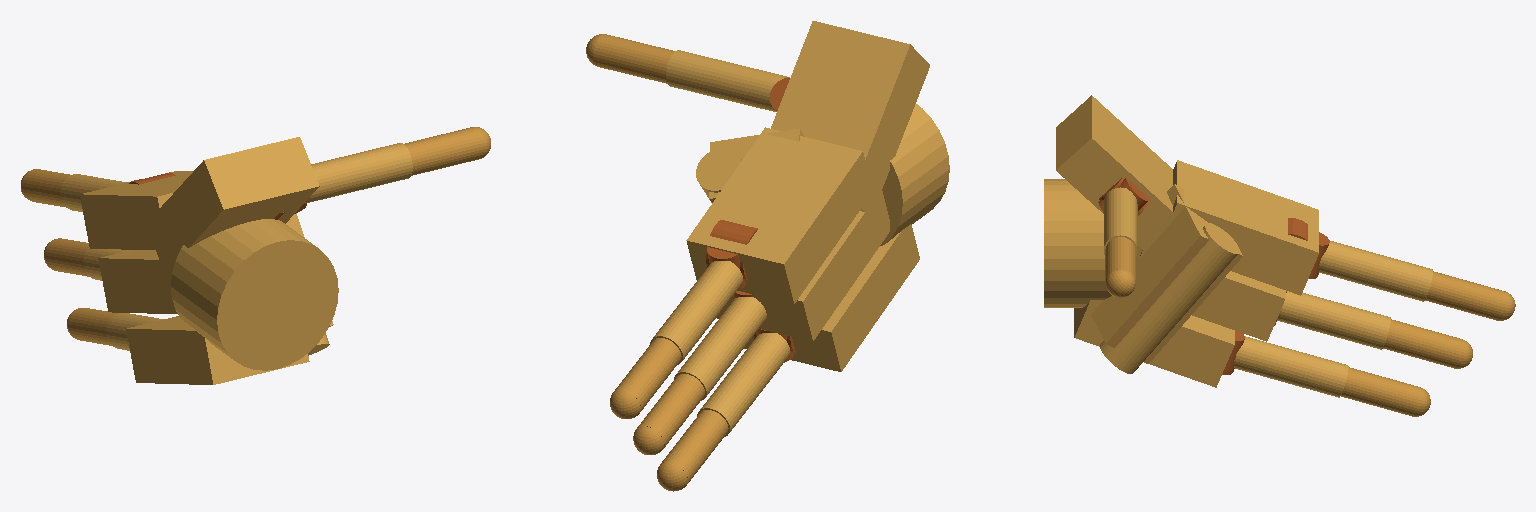
--- Render facts (derived) ---
Views: 3 orthographic renders of the robot side by side, from view 1: azimuth 30°, elevation 25°; view 2: azimuth 150°, elevation 25°; view 3: azimuth 270°, elevation 25°.
Model atlas_sandia_hands with 30 links and 29 joints (12 revolute, 17 fixed), rooted at l_hand, posed every joint at zero.
Links seen in each view (by area): view 1: left_palm, left_f3_1, left_f3_2, left_f0_2, left_f2_2, left_f1_2, left_f0_1, left_f2_1, left_f1_1; view 2: left_palm, left_f3_1, left_f0_1, left_f2_1, left_f1_1, left_f1_2, left_f2_2, left_f0_2, left_f3_2, left_f0_0; view 3: left_palm, left_f2_1, left_f0_1, left_f1_1, left_f0_2, left_f2_2, left_f1_2, left_f3_1, left_f3_2, left_f0_0.
Boxes of the visible links, x1,y1,x2,y2 form: left_palm: [80, 137, 338, 384]; left_f3_1: [306, 143, 412, 202]; left_f3_2: [404, 127, 490, 175]; left_f0_2: [21, 169, 70, 206]; left_f2_2: [67, 308, 117, 345]; left_f1_2: [44, 238, 89, 276]; left_f0_1: [60, 174, 127, 211]; left_f2_1: [106, 313, 163, 350]; left_f1_1: [83, 248, 129, 280]; left_palm: [686, 21, 949, 371]; left_f3_1: [666, 50, 789, 111]; left_f0_1: [650, 261, 742, 364]; left_f2_1: [697, 333, 789, 436]; left_f1_1: [674, 297, 766, 400]; left_f1_2: [633, 374, 704, 454]; left_f2_2: [657, 410, 728, 491]; left_f0_2: [610, 338, 681, 418]; left_f3_2: [586, 34, 674, 83]; left_f0_0: [706, 220, 757, 289]; left_palm: [1044, 95, 1318, 387]; left_f2_1: [1234, 336, 1348, 397]; left_f0_1: [1318, 241, 1432, 301]; left_f1_1: [1277, 291, 1390, 349]; left_f0_2: [1425, 271, 1515, 320]; left_f2_2: [1341, 367, 1430, 416]; left_f1_2: [1383, 319, 1472, 368]; left_f3_1: [1104, 187, 1137, 255]; left_f3_2: [1105, 237, 1135, 297]; left_f0_0: [1288, 218, 1329, 278].
Bounding box of the posed robot: 0.196 × 0.2782 × 0.1924 m (x, y, z).
Geometry: primitives only (box / cylinder / sphere), no mesh files.

The robot description file, URDF, robot "atlas_sandia_hands":
<?xml version="1.0" ?>
<!-- =================================================================================== -->
<!-- |    This document was autogenerated by xacro from /tmp/buildd/drcsim-nightly-2.4.0~hg20130418r510de8699c3e/ros/atlas_description/robots/atlas_sandia_hands.urdf.xacro | -->
<!-- |    EDITING THIS FILE BY HAND IS NOT RECOMMENDED                                 | -->
<!-- =================================================================================== -->
<robot name="atlas_sandia_hands" xmlns:xacro="http://www.ros.org/wiki/xacro">
  <link name="l_hand">
    <origin rpy="0 0 0" xyz="0 0 0"/>
  </link>
  <link name="left_palm">
    <origin rpy="0 0 0" xyz="0 0 0"/>
    <inertial>
      <mass value="1.303"/>
      <origin xyz="0 0 0"/>
      <!-- solid sphere with 5cm radius -->
      <inertia ixx="0.001303" ixy="0" ixz="0" iyy="0.001303" iyz="0" izz="0.001303"/>
    </inertial>
    <!-- begin simple shape approximation of palm -->
    <collision group="default">
      <origin rpy="0 1.57079632679 0.9" xyz="0.069 -0.016 0.038"/>
      <geometry>
        <cylinder length="0.100" radius="0.013"/>
      </geometry>
    </collision>
    <collision group="other">
      <origin rpy="0.41 0 0.9" xyz="0.064 -0.008 0.021"/>
      <geometry>
        <box size="0.09 .035 .05"/>
      </geometry>
    </collision>
    <collision group="other">
      <origin rpy="0 1.57079632679 0" xyz="0.02 0 -0.005"/>
      <geometry>
        <cylinder length="0.05" radius="0.038"/>
      </geometry>
    </collision>
    <collision group="other">
      <origin rpy="0 0 -0.37" xyz="0.11 0.01 -0.005"/>
      <geometry>
        <box size="0.09 .03 .06"/>
      </geometry>
    </collision>
    <collision group="other">
      <origin rpy="0 0 -0.37" xyz="0.09 -0.02 -0.005"/>
      <geometry>
        <box size="0.09 .03 .06"/>
      </geometry>
    </collision>
    <collision group="other">
      <origin rpy="0 0 -0.37" xyz="0.060 -0.05 -0.005"/>
      <geometry>
        <box size="0.09 .03 .06"/>
      </geometry>
    </collision>
    <collision group="other">
      <origin rpy="0 0 -0.79" xyz="0.044 0.04 -0.005"/>
      <geometry>
        <box size="0.09 .03 .06"/>
      </geometry>
    </collision>
    <!--   end simple shape approximation of palm -->
    <!-- begin visual shape approximation of palm -->
    <visual>
      <origin rpy="0 1.57079632679 0.9" xyz="0.069 -0.016 0.038"/>
      <geometry>
        <cylinder length="0.100" radius="0.013"/>
      </geometry>
      <material name="left_sandia_hand_skin">
        <color rgba="0.835 0.655 0.345 1.0"/>
      </material>
    </visual>
    <visual>
      <origin rpy="0.41 0 0.9" xyz="0.064 -0.008 0.021"/>
      <geometry>
        <box size="0.09 .035 .05"/>
      </geometry>
      <material name="left_sandia_hand_skin">
        <color rgba="0.835 0.655 0.345 1.0"/>
      </material>
    </visual>
    <visual>
      <origin rpy="0 1.57079632679 0" xyz="0.02 0 -0.005"/>
      <geometry>
        <cylinder length="0.05" radius="0.038"/>
      </geometry>
      <material name="left_sandia_hand_skin">
        <color rgba="0.835 0.655 0.345 1.0"/>
      </material>
    </visual>
    <visual>
      <origin rpy="0 0 -0.37" xyz="0.11 0.01 -0.005"/>
      <geometry>
        <box size="0.09 .03 .06"/>
      </geometry>
      <material name="left_sandia_hand_skin">
        <color rgba="0.835 0.655 0.345 1.0"/>
      </material>
    </visual>
    <visual>
      <origin rpy="0 0 -0.37" xyz="0.09 -0.02 -0.005"/>
      <geometry>
        <box size="0.09 .03 .06"/>
      </geometry>
      <material name="left_sandia_hand_skin">
        <color rgba="0.835 0.655 0.345 1.0"/>
      </material>
    </visual>
    <visual>
      <origin rpy="0 0 -0.37" xyz="0.060 -0.05 -0.005"/>
      <geometry>
        <box size="0.09 .03 .06"/>
      </geometry>
      <material name="left_sandia_hand_skin">
        <color rgba="0.835 0.655 0.345 1.0"/>
      </material>
    </visual>
    <visual>
      <origin rpy="0 0 -0.79" xyz="0.044 0.04 -0.005"/>
      <geometry>
        <box size="0.09 .03 .06"/>
      </geometry>
      <material name="left_sandia_hand_skin">
        <color rgba="0.835 0.655 0.345 1.0"/>
      </material>
    </visual>
    <!--   end visual shape approximation of palm -->
    <!-- begin collision mesh of f2 ->
      <collision group="default">
        <origin xyz="0 0 0" rpy="0 0 0"/>
        <geometry>
          <mesh filename="package://sandia_hand_description/meshes/palm.stl"/>
        </geometry>
      </collision>
      <!-   end collision mesh of f2 -->
    <!-- begin visual mesh of f2    ->
      <visual>
        <origin xyz="0 0 0" rpy="0 0 0"/>
        <geometry>
          <mesh filename="package://sandia_hand_description/meshes/palm.stl"/>
        </geometry>
        <material name="${side}_sandia_hand_skin">
          <color rgba="0.835 0.655 0.345 1.0"/>
        </material>
      </visual>
      <!-   end visual mesh of f2 -->
  </link>
  <joint name="left_sandia_hand_joint" type="fixed">
    <parent link="l_hand"/>
    <child link="left_palm"/>
    <origin rpy=" 1.57079 0  1.57079" xyz="0  0.1 0"/>
  </joint>
  <link name="left_f0_base">
    <origin rpy="0 0 0" xyz="0 0 0"/>
    <inertial>
      <!-- total mass is 2.303 kg, palm is about 1.303 kg, distribute the rest into _base -->
      <mass value="0.250"/>
      <!-- (2.303 - 1.303) / 4 -->
      <origin xyz="0 0 0"/>
      <!-- model as sphere with radius of 1cm -->
      <inertia ixx="0.00001" ixy="0" ixz="0" iyy="0.00001" iyz="0" izz="0.00001"/>
    </inertial>
  </link>
  <link name="left_f0_fixed_accel">
    <origin rpy="0 0 0" xyz="0 0 0"/>
    <inertial>
      <mass value="0.01"/>
      <origin xyz="0 0 0"/>
      <inertia ixx="0.000001" ixy="0" ixz="0" iyy="0.000001" iyz="0" izz="0.000001"/>
    </inertial>
  </link>
  <link name="left_f0_0">
    <origin rpy="0 0 0" xyz="0 0 0"/>
    <inertial>
      <mass value="0.106"/>
      <!-- F1 -->
      <origin xyz="0 0 0"/>
      <!-- solid cylinder -->
      <inertia ixx="0.000011925" ixy="0" ixz="0" iyy="0.00011505" iyz="0" izz="0.00011505"/>
    </inertial>
    <!-- begin simple shape approximation of f0 -->
    <collision group="default">
      <origin rpy="0 0 0" xyz="0 0 0.003"/>
      <geometry>
        <cylinder length="0.023" radius="0.015"/>
      </geometry>
    </collision>
    <collision group="other">
      <origin rpy="1.57079632679 0 0" xyz="0.011 0 0.003"/>
      <geometry>
        <cylinder length="0.023" radius="0.01"/>
      </geometry>
    </collision>
    <!--   end simple shape approximation of f0 -->
    <!-- begin visual shape approximation of f0 -->
    <visual>
      <origin rpy="0 0 0" xyz="0 0 0.003"/>
      <geometry>
        <cylinder length="0.023" radius="0.015"/>
      </geometry>
      <material name="left_sandia_hand_skin_suntan">
        <color rgba="0.7 0.4 0.2 1.0"/>
      </material>
    </visual>
    <visual>
      <origin rpy="1.57079632679 0 0" xyz="0.011 0 0.003"/>
      <geometry>
        <cylinder length="0.023" radius="0.01"/>
      </geometry>
      <material name="left_sandia_hand_skin_suntan">
        <color rgba="0.7 0.4 0.2 1.0"/>
      </material>
    </visual>
    <!--   end visual shape approximation of f0 -->
    <!-- begin collision mesh of f0 ->
      <collision group="default">
        <origin xyz="0 0 0" rpy="0 0 0"/>
        <geometry>
          <mesh filename="package://sandia_hand_description/meshes/f0.stl"/>
        </geometry>
      </collision>
      <!-   end collision mesh of f0 -->
    <!-- begin visual mesh of f0 ->
      <visual>
        <origin xyz="0 0 0" rpy="0 0 0"/>
        <geometry>
          <mesh filename="package://sandia_hand_description/meshes/f0.stl"/>
        </geometry>
        <material name="${side}_sandia_hand_skin_suntan">
          <color rgba="0.7 0.4 0.2 1.0"/>
        </material>
      </visual>
      <!-   end visual mesh of f0 -->
  </link>
  <link name="left_f0_1">
    <origin rpy="0 0 0" xyz="0 0 0"/>
    <inertial>
      <mass value="0.033"/>
      <!-- F2 -->
      <origin xyz="0 0 0"/>
      <!-- solid cylinder -->
      <inertia ixx="0.00000165" ixy="0" ixz="0" iyy="0.00001316975" iyz="0" izz="0.00001316975"/>
    </inertial>
    <!-- begin simple shape approximation of f1 -->
    <collision group="default">
      <origin rpy="0 1.57079632679 0" xyz="0.024 0 0"/>
      <geometry>
        <cylinder length="0.067" radius="0.01"/>
      </geometry>
    </collision>
    <!--   end simple shape approximation of f1 -->
    <!-- begin visual shape approximation of f1 -->
    <visual>
      <origin rpy="0 1.57079632679 0" xyz="0.024 0 0"/>
      <geometry>
        <cylinder length="0.067" radius="0.01"/>
      </geometry>
      <material name="left_sandia_hand_skin">
        <color rgba="0.835 0.655 0.345 1.0"/>
      </material>
    </visual>
    <!--   end visual shape approximation of f1 -->
    <!-- begin collision mesh of f1 ->
      <collision group="default">
        <origin xyz="0 0 0" rpy="0 0 0"/>
        <geometry>
          <mesh filename="package://sandia_hand_description/meshes/f1.stl"/>
        </geometry>
      </collision>
      <!-   end collision mesh of f1 -->
    <!-- begin visual mesh of f1 ->
      <visual>
        <origin xyz="0 0 0" rpy="0 0 0"/>
        <geometry>
          <mesh filename="package://sandia_hand_description/meshes/f1.stl"/>
        </geometry>
        <material name="${side}_sandia_hand_skin">
          <color rgba="0.835 0.655 0.345 1.0"/>
        </material>
      </visual>
      <!-   end visual mesh of f1 -->
  </link>
  <link name="left_f0_1_accel">
    <origin rpy="0 0 0" xyz="0 0 0"/>
    <inertial>
      <mass value="0.01"/>
      <origin xyz="0 0 0"/>
      <inertia ixx="0.000001" ixy="0" ixz="0" iyy="0.000001" iyz="0" izz="0.000001"/>
    </inertial>
  </link>
  <link name="left_f0_2">
    <origin rpy="0 0 0" xyz="0 0 0"/>
    <inertial>
      <mass value="0.033"/>
      <!-- F3 -->
      <origin xyz="0 0 0"/>
      <!-- solid cylinder -->
      <inertia ixx="0.0000013365" ixy="0" ixz="0" iyy="0.000009603" iyz="0" izz="0.000009603"/>
    </inertial>
    <!-- begin simple shape approximation of f2 -->
    <collision group="default">
      <origin rpy="0 1.57079632679 0" xyz="0.024 0 0"/>
      <geometry>
        <cylinder length="0.057" radius="0.009"/>
      </geometry>
    </collision>
    <collision group="other">
      <origin rpy="0 0 0" xyz="0.052 0 0"/>
      <geometry>
        <sphere radius="0.009"/>
      </geometry>
    </collision>
    <!--   end simple shape approximation of f2 -->
    <!-- begin visual shape approximation of f2 -->
    <visual>
      <origin rpy="0 1.57079632679 0" xyz="0.024 0 0"/>
      <geometry>
        <cylinder length="0.057" radius="0.009"/>
      </geometry>
      <material name="left_sandia_hand_skin_suntan">
        <color rgba="0.8 0.6 0.3 1.0"/>
      </material>
    </visual>
    <visual>
      <origin rpy="0 0 0" xyz="0.052 0 0"/>
      <geometry>
        <sphere radius="0.009"/>
      </geometry>
      <material name="left_sandia_hand_skin_suntan">
        <color rgba="0.8 0.6 0.3 1.0"/>
      </material>
    </visual>
    <!-- begin collision mesh of f2    ->
      <collision group="default">
        <origin xyz="0 0 0" rpy="0 0 0"/>
        <geometry>
          <mesh filename="package://sandia_hand_description/meshes/f2.stl"/>
        </geometry>
      </collision>
      <!-   end collision mesh of f2 -->
    <!-- begin visual mesh of f2    ->
      <visual>
        <origin xyz="0 0 0" rpy="0 0 0"/>
        <geometry>
          <mesh filename="package://sandia_hand_description/meshes/f2.stl"/>
        </geometry>
        <material name="${side}_sandia_hand_skin_suntan">
          <color rgba="0.8 0.6 0.3 1.0"/>
        </material>
      </visual>
      <!-   end visual mesh of f2 -->
  </link>
  <link name="left_f0_2_accel">
    <origin rpy="0 0 0" xyz="0 0 0"/>
    <inertial>
      <mass value="0.01"/>
      <origin xyz="0 0 0"/>
      <inertia ixx="0.000001" ixy="0" ixz="0" iyy="0.000001" iyz="0" izz="0.000001"/>
    </inertial>
  </link>
  <joint name="left_f0_base" type="fixed">
    <parent link="left_palm"/>
    <child link="left_f0_base"/>
    <origin rpy="0 0 -0.3" xyz="0.14 0.0 0"/>
  </joint>
  <joint name="left_f0_j0" type="revolute">
    <axis xyz="0 0 -1"/>
    <parent link="left_f0_base"/>
    <child link="left_f0_0"/>
    <limit effort="11" lower="-1.57079632679" upper="1.57079632679" velocity="100"/>
    <safety_controller k_position="1000.0" k_velocity="1000.0" soft_lower_limit="-11.57079" soft_upper_limit="11.57079"/>
    <dynamics damping="30"/>
    <origin rpy="0 0 0" xyz="0 0 0"/>
  </joint>
  <joint name="left_f0_j1" type="revolute">
    <axis xyz="0 0 1"/>
    <parent link="left_f0_0"/>
    <child link="left_f0_1"/>
    <limit effort="28" lower="-1.57079632679" upper="1.57079632679" velocity="100"/>
    <safety_controller k_position="1000.0" k_velocity="1000.0" soft_lower_limit="-11.57079" soft_upper_limit="11.57079"/>
    <dynamics damping="30"/>
    <origin rpy="1.57079632679 0 0" xyz="0.028 0 0"/>
  </joint>
  <joint name="left_f0_j2" type="revolute">
    <axis xyz="0 0 1"/>
    <parent link="left_f0_1"/>
    <child link="left_f0_2"/>
    <origin rpy="0 0 0" xyz="0.05 0 0"/>
    <safety_controller k_position="1000.0" k_velocity="1000.0" soft_lower_limit="-11.57079" soft_upper_limit="11.57079"/>
    <dynamics damping="30"/>
    <limit effort="28" lower="-1.57079632679" upper="1.57079632679" velocity="100"/>
  </joint>
  <joint name="left_f0_fixed_accel" type="fixed">
    <parent link="left_f0_base"/>
    <child link="left_f0_fixed_accel"/>
    <origin rpy="0 0 0" xyz="-0.05 0 0"/>
  </joint>
  <joint name="left_f0_1_accel" type="fixed">
    <parent link="left_f0_1"/>
    <child link="left_f0_1_accel"/>
    <origin rpy="-1.57079632679 0 0" xyz="0.03 0 0"/>
  </joint>
  <joint name="left_f0_2_accel" type="fixed">
    <parent link="left_f0_2"/>
    <child link="left_f0_2_accel"/>
    <origin rpy="-1.57079632679 0 0" xyz="0.04 0 0"/>
  </joint>
  <transmission name="left_f0_j0" type="pr2_mechanism_model/SimpleTransmission">
    <joint name="left_f0_j0"/>
    <actuator name="left_f0_j0_motor"/>
    <mechanicalReduction>1</mechanicalReduction>
  </transmission>
  <transmission name="left_f0_j1" type="pr2_mechanism_model/SimpleTransmission">
    <joint name="left_f0_j1"/>
    <actuator name="left_f0_j1_motor"/>
    <mechanicalReduction>1</mechanicalReduction>
  </transmission>
  <transmission name="left_f0_j2" type="pr2_mechanism_model/SimpleTransmission">
    <joint name="left_f0_j2"/>
    <actuator name="left_f0_j2_motor"/>
    <mechanicalReduction>1</mechanicalReduction>
  </transmission>
  <gazebo reference="left_f0_base">
    <mu1>0.9</mu1>
    <mu2>0.9</mu2>
    <kp>1000000000.0</kp>
    <kd>1.0</kd>
    <maxVel>0.1</maxVel>
    <minDepth>0.0</minDepth>
  </gazebo>
  <gazebo reference="left_f0_0">
    <mu1>0.9</mu1>
    <mu2>0.9</mu2>
    <kp>1000000000.0</kp>
    <kd>1.0</kd>
    <maxVel>0.1</maxVel>
    <minDepth>0.0</minDepth>
  </gazebo>
  <gazebo reference="left_f0_1">
    <mu1>0.9</mu1>
    <mu2>0.9</mu2>
    <kp>1000000000.0</kp>
    <kd>1.0</kd>
    <maxVel>1.0</maxVel>
    <minDepth>0.0</minDepth>
  </gazebo>
  <gazebo reference="left_f0_2">
    <mu1>0.9</mu1>
    <mu2>0.9</mu2>
    <kp>1000000000.0</kp>
    <kd>1.0</kd>
    <maxVel>1.0</maxVel>
    <minDepth>0.0</minDepth>
  </gazebo>
  <gazebo reference="left_f0_j0">
    <cfmDamping>1</cfmDamping>
  </gazebo>
  <gazebo reference="left_f0_j1">
    <cfmDamping>1</cfmDamping>
  </gazebo>
  <gazebo reference="left_f0_j2">
    <cfmDamping>1</cfmDamping>
  </gazebo>
  <link name="left_f1_base">
    <origin rpy="0 0 0" xyz="0 0 0"/>
    <inertial>
      <!-- total mass is 2.303 kg, palm is about 1.303 kg, distribute the rest into _base -->
      <mass value="0.250"/>
      <!-- (2.303 - 1.303) / 4 -->
      <origin xyz="0 0 0"/>
      <!-- model as sphere with radius of 1cm -->
      <inertia ixx="0.00001" ixy="0" ixz="0" iyy="0.00001" iyz="0" izz="0.00001"/>
    </inertial>
  </link>
  <link name="left_f1_fixed_accel">
    <origin rpy="0 0 0" xyz="0 0 0"/>
    <inertial>
      <mass value="0.01"/>
      <origin xyz="0 0 0"/>
      <inertia ixx="0.000001" ixy="0" ixz="0" iyy="0.000001" iyz="0" izz="0.000001"/>
    </inertial>
  </link>
  <link name="left_f1_0">
    <origin rpy="0 0 0" xyz="0 0 0"/>
    <inertial>
      <mass value="0.106"/>
      <!-- F1 -->
      <origin xyz="0 0 0"/>
      <!-- solid cylinder -->
      <inertia ixx="0.000011925" ixy="0" ixz="0" iyy="0.00011505" iyz="0" izz="0.00011505"/>
    </inertial>
    <!-- begin simple shape approximation of f0 -->
    <collision group="default">
      <origin rpy="0 0 0" xyz="0 0 0.003"/>
      <geometry>
        <cylinder length="0.023" radius="0.015"/>
      </geometry>
    </collision>
    <collision group="other">
      <origin rpy="1.57079632679 0 0" xyz="0.011 0 0.003"/>
      <geometry>
        <cylinder length="0.023" radius="0.01"/>
      </geometry>
    </collision>
    <!--   end simple shape approximation of f0 -->
    <!-- begin visual shape approximation of f0 -->
    <visual>
      <origin rpy="0 0 0" xyz="0 0 0.003"/>
      <geometry>
        <cylinder length="0.023" radius="0.015"/>
      </geometry>
      <material name="left_sandia_hand_skin_suntan">
        <color rgba="0.7 0.4 0.2 1.0"/>
      </material>
    </visual>
    <visual>
      <origin rpy="1.57079632679 0 0" xyz="0.011 0 0.003"/>
      <geometry>
        <cylinder length="0.023" radius="0.01"/>
      </geometry>
      <material name="left_sandia_hand_skin_suntan">
        <color rgba="0.7 0.4 0.2 1.0"/>
      </material>
    </visual>
    <!--   end visual shape approximation of f0 -->
    <!-- begin collision mesh of f0 ->
      <collision group="default">
        <origin xyz="0 0 0" rpy="0 0 0"/>
        <geometry>
          <mesh filename="package://sandia_hand_description/meshes/f0.stl"/>
        </geometry>
      </collision>
      <!-   end collision mesh of f0 -->
    <!-- begin visual mesh of f0 ->
      <visual>
        <origin xyz="0 0 0" rpy="0 0 0"/>
        <geometry>
          <mesh filename="package://sandia_hand_description/meshes/f0.stl"/>
        </geometry>
        <material name="${side}_sandia_hand_skin_suntan">
          <color rgba="0.7 0.4 0.2 1.0"/>
        </material>
      </visual>
      <!-   end visual mesh of f0 -->
  </link>
  <link name="left_f1_1">
    <origin rpy="0 0 0" xyz="0 0 0"/>
    <inertial>
      <mass value="0.033"/>
      <!-- F2 -->
      <origin xyz="0 0 0"/>
      <!-- solid cylinder -->
      <inertia ixx="0.00000165" ixy="0" ixz="0" iyy="0.00001316975" iyz="0" izz="0.00001316975"/>
    </inertial>
    <!-- begin simple shape approximation of f1 -->
    <collision group="default">
      <origin rpy="0 1.57079632679 0" xyz="0.024 0 0"/>
      <geometry>
        <cylinder length="0.067" radius="0.01"/>
      </geometry>
    </collision>
    <!--   end simple shape approximation of f1 -->
    <!-- begin visual shape approximation of f1 -->
    <visual>
      <origin rpy="0 1.57079632679 0" xyz="0.024 0 0"/>
      <geometry>
        <cylinder length="0.067" radius="0.01"/>
      </geometry>
      <material name="left_sandia_hand_skin">
        <color rgba="0.835 0.655 0.345 1.0"/>
      </material>
    </visual>
    <!--   end visual shape approximation of f1 -->
    <!-- begin collision mesh of f1 ->
      <collision group="default">
        <origin xyz="0 0 0" rpy="0 0 0"/>
        <geometry>
          <mesh filename="package://sandia_hand_description/meshes/f1.stl"/>
        </geometry>
      </collision>
      <!-   end collision mesh of f1 -->
    <!-- begin visual mesh of f1 ->
      <visual>
        <origin xyz="0 0 0" rpy="0 0 0"/>
        <geometry>
          <mesh filename="package://sandia_hand_description/meshes/f1.stl"/>
        </geometry>
        <material name="${side}_sandia_hand_skin">
          <color rgba="0.835 0.655 0.345 1.0"/>
        </material>
      </visual>
      <!-   end visual mesh of f1 -->
  </link>
  <link name="left_f1_1_accel">
    <origin rpy="0 0 0" xyz="0 0 0"/>
    <inertial>
      <mass value="0.01"/>
      <origin xyz="0 0 0"/>
      <inertia ixx="0.000001" ixy="0" ixz="0" iyy="0.000001" iyz="0" izz="0.000001"/>
    </inertial>
  </link>
  <link name="left_f1_2">
    <origin rpy="0 0 0" xyz="0 0 0"/>
    <inertial>
      <mass value="0.033"/>
      <!-- F3 -->
      <origin xyz="0 0 0"/>
      <!-- solid cylinder -->
      <inertia ixx="0.0000013365" ixy="0" ixz="0" iyy="0.000009603" iyz="0" izz="0.000009603"/>
    </inertial>
    <!-- begin simple shape approximation of f2 -->
    <collision group="default">
      <origin rpy="0 1.57079632679 0" xyz="0.024 0 0"/>
      <geometry>
        <cylinder length="0.057" radius="0.009"/>
      </geometry>
    </collision>
    <collision group="other">
      <origin rpy="0 0 0" xyz="0.052 0 0"/>
      <geometry>
        <sphere radius="0.009"/>
      </geometry>
    </collision>
    <!--   end simple shape approximation of f2 -->
    <!-- begin visual shape approximation of f2 -->
    <visual>
      <origin rpy="0 1.57079632679 0" xyz="0.024 0 0"/>
      <geometry>
        <cylinder length="0.057" radius="0.009"/>
      </geometry>
      <material name="left_sandia_hand_skin_suntan">
        <color rgba="0.8 0.6 0.3 1.0"/>
      </material>
    </visual>
    <visual>
      <origin rpy="0 0 0" xyz="0.052 0 0"/>
      <geometry>
        <sphere radius="0.009"/>
      </geometry>
      <material name="left_sandia_hand_skin_suntan">
        <color rgba="0.8 0.6 0.3 1.0"/>
      </material>
    </visual>
    <!-- begin collision mesh of f2    ->
      <collision group="default">
        <origin xyz="0 0 0" rpy="0 0 0"/>
        <geometry>
          <mesh filename="package://sandia_hand_description/meshes/f2.stl"/>
        </geometry>
      </collision>
      <!-   end collision mesh of f2 -->
    <!-- begin visual mesh of f2    ->
      <visual>
        <origin xyz="0 0 0" rpy="0 0 0"/>
        <geometry>
          <mesh filename="package://sandia_hand_description/meshes/f2.stl"/>
        </geometry>
        <material name="${side}_sandia_hand_skin_suntan">
          <color rgba="0.8 0.6 0.3 1.0"/>
        </material>
      </visual>
      <!-   end visual mesh of f2 -->
  </link>
  <link name="left_f1_2_accel">
    <origin rpy="0 0 0" xyz="0 0 0"/>
    <inertial>
      <mass value="0.01"/>
      <origin xyz="0 0 0"/>
      <inertia ixx="0.000001" ixy="0" ixz="0" iyy="0.000001" iyz="0" izz="0.000001"/>
    </inertial>
  </link>
  <joint name="left_f1_base" type="fixed">
    <parent link="left_palm"/>
    <child link="left_f1_base"/>
    <origin rpy="0 0 -0.3" xyz="0.115 -0.03122 0"/>
  </joint>
  <joint name="left_f1_j0" type="revolute">
    <axis xyz="0 0 -1"/>
    <parent link="left_f1_base"/>
    <child link="left_f1_0"/>
    <limit effort="11" lower="-1.57079632679" upper="1.57079632679" velocity="100"/>
    <safety_controller k_position="1000.0" k_velocity="1000.0" soft_lower_limit="-11.57079" soft_upper_limit="11.57079"/>
    <dynamics damping="30"/>
    <origin rpy="0 0 0" xyz="0 0 0"/>
  </joint>
  <joint name="left_f1_j1" type="revolute">
    <axis xyz="0 0 1"/>
    <parent link="left_f1_0"/>
    <child link="left_f1_1"/>
    <limit effort="28" lower="-1.57079632679" upper="1.57079632679" velocity="100"/>
    <safety_controller k_position="1000.0" k_velocity="1000.0" soft_lower_limit="-11.57079" soft_upper_limit="11.57079"/>
    <dynamics damping="30"/>
    <origin rpy="1.57079632679 0 0" xyz="0.028 0 0"/>
  </joint>
  <joint name="left_f1_j2" type="revolute">
    <axis xyz="0 0 1"/>
    <parent link="left_f1_1"/>
    <child link="left_f1_2"/>
    <origin rpy="0 0 0" xyz="0.05 0 0"/>
    <safety_controller k_position="1000.0" k_velocity="1000.0" soft_lower_limit="-11.57079" soft_upper_limit="11.57079"/>
    <dynamics damping="30"/>
    <limit effort="28" lower="-1.57079632679" upper="1.57079632679" velocity="100"/>
  </joint>
  <joint name="left_f1_fixed_accel" type="fixed">
    <parent link="left_f1_base"/>
    <child link="left_f1_fixed_accel"/>
    <origin rpy="0 0 0" xyz="-0.05 0 0"/>
  </joint>
  <joint name="left_f1_1_accel" type="fixed">
    <parent link="left_f1_1"/>
    <child link="left_f1_1_accel"/>
    <origin rpy="-1.57079632679 0 0" xyz="0.03 0 0"/>
  </joint>
  <joint name="left_f1_2_accel" type="fixed">
    <parent link="left_f1_2"/>
    <child link="left_f1_2_accel"/>
    <origin rpy="-1.57079632679 0 0" xyz="0.04 0 0"/>
  </joint>
  <transmission name="left_f1_j0" type="pr2_mechanism_model/SimpleTransmission">
    <joint name="left_f1_j0"/>
    <actuator name="left_f1_j0_motor"/>
    <mechanicalReduction>1</mechanicalReduction>
  </transmission>
  <transmission name="left_f1_j1" type="pr2_mechanism_model/SimpleTransmission">
    <joint name="left_f1_j1"/>
    <actuator name="left_f1_j1_motor"/>
    <mechanicalReduction>1</mechanicalReduction>
  </transmission>
  <transmission name="left_f1_j2" type="pr2_mechanism_model/SimpleTransmission">
    <joint name="left_f1_j2"/>
    <actuator name="left_f1_j2_motor"/>
    <mechanicalReduction>1</mechanicalReduction>
  </transmission>
  <gazebo reference="left_f1_base">
    <mu1>0.9</mu1>
    <mu2>0.9</mu2>
    <kp>1000000000.0</kp>
    <kd>1.0</kd>
    <maxVel>0.1</maxVel>
    <minDepth>0.0</minDepth>
  </gazebo>
  <gazebo reference="left_f1_0">
    <mu1>0.9</mu1>
    <mu2>0.9</mu2>
    <kp>1000000000.0</kp>
    <kd>1.0</kd>
    <maxVel>0.1</maxVel>
    <minDepth>0.0</minDepth>
  </gazebo>
  <gazebo reference="left_f1_1">
    <mu1>0.9</mu1>
    <mu2>0.9</mu2>
    <kp>1000000000.0</kp>
    <kd>1.0</kd>
    <maxVel>1.0</maxVel>
    <minDepth>0.0</minDepth>
  </gazebo>
  <gazebo reference="left_f1_2">
    <mu1>0.9</mu1>
    <mu2>0.9</mu2>
    <kp>1000000000.0</kp>
    <kd>1.0</kd>
    <maxVel>1.0</maxVel>
    <minDepth>0.0</minDepth>
  </gazebo>
  <gazebo reference="left_f1_j0">
    <cfmDamping>1</cfmDamping>
  </gazebo>
  <gazebo reference="left_f1_j1">
    <cfmDamping>1</cfmDamping>
  </gazebo>
  <gazebo reference="left_f1_j2">
    <cfmDamping>1</cfmDamping>
  </gazebo>
  <link name="left_f2_base">
    <origin rpy="0 0 0" xyz="0 0 0"/>
    <inertial>
      <!-- total mass is 2.303 kg, palm is about 1.303 kg, distribute the rest into _base -->
      <mass value="0.250"/>
      <!-- (2.303 - 1.303) / 4 -->
      <origin xyz="0 0 0"/>
      <!-- model as sphere with radius of 1cm -->
      <inertia ixx="0.00001" ixy="0" ixz="0" iyy="0.00001" iyz="0" izz="0.00001"/>
    </inertial>
  </link>
  <link name="left_f2_fixed_accel">
    <origin rpy="0 0 0" xyz="0 0 0"/>
    <inertial>
      <mass value="0.01"/>
      <origin xyz="0 0 0"/>
      <inertia ixx="0.000001" ixy="0" ixz="0" iyy="0.000001" iyz="0" izz="0.000001"/>
    </inertial>
  </link>
  <link name="left_f2_0">
    <origin rpy="0 0 0" xyz="0 0 0"/>
    <inertial>
      <mass value="0.106"/>
      <!-- F1 -->
      <origin xyz="0 0 0"/>
      <!-- solid cylinder -->
      <inertia ixx="0.000011925" ixy="0" ixz="0" iyy="0.00011505" iyz="0" izz="0.00011505"/>
    </inertial>
    <!-- begin simple shape approximation of f0 -->
    <collision group="default">
      <origin rpy="0 0 0" xyz="0 0 0.003"/>
      <geometry>
        <cylinder length="0.023" radius="0.015"/>
      </geometry>
    </collision>
    <collision group="other">
      <origin rpy="1.57079632679 0 0" xyz="0.011 0 0.003"/>
      <geometry>
        <cylinder length="0.023" radius="0.01"/>
      </geometry>
    </collision>
    <!--   end simple shape approximation of f0 -->
    <!-- begin visual shape approximation of f0 -->
    <visual>
      <origin rpy="0 0 0" xyz="0 0 0.003"/>
      <geometry>
        <cylinder length="0.023" radius="0.015"/>
      </geometry>
      <material name="left_sandia_hand_skin_suntan">
        <color rgba="0.7 0.4 0.2 1.0"/>
      </material>
    </visual>
    <visual>
      <origin rpy="1.57079632679 0 0" xyz="0.011 0 0.003"/>
      <geometry>
        <cylinder length="0.023" radius="0.01"/>
      </geometry>
      <material name="left_sandia_hand_skin_suntan">
        <color rgba="0.7 0.4 0.2 1.0"/>
      </material>
    </visual>
    <!--   end visual shape approximation of f0 -->
    <!-- begin collision mesh of f0 ->
      <collision group="default">
        <origin xyz="0 0 0" rpy="0 0 0"/>
        <geometry>
          <mesh filename="package://sandia_hand_description/meshes/f0.stl"/>
        </geometry>
      </collision>
      <!-   end collision mesh of f0 -->
    <!-- begin visual mesh of f0 ->
      <visual>
        <origin xyz="0 0 0" rpy="0 0 0"/>
        <geometry>
          <mesh filename="package://sandia_hand_description/meshes/f0.stl"/>
        </geometry>
        <material name="${side}_sandia_hand_skin_suntan">
          <color rgba="0.7 0.4 0.2 1.0"/>
        </material>
      </visual>
      <!-   end visual mesh of f0 -->
  </link>
  <link name="left_f2_1">
    <origin rpy="0 0 0" xyz="0 0 0"/>
    <inertial>
      <mass value="0.033"/>
      <!-- F2 -->
      <origin xyz="0 0 0"/>
      <!-- solid cylinder -->
      <inertia ixx="0.00000165" ixy="0" ixz="0" iyy="0.00001316975" iyz="0" izz="0.00001316975"/>
    </inertial>
    <!-- begin simple shape approximation of f1 -->
    <collision group="default">
      <origin rpy="0 1.57079632679 0" xyz="0.024 0 0"/>
      <geometry>
        <cylinder length="0.067" radius="0.01"/>
      </geometry>
    </collision>
    <!--   end simple shape approximation of f1 -->
    <!-- begin visual shape approximation of f1 -->
    <visual>
      <origin rpy="0 1.57079632679 0" xyz="0.024 0 0"/>
      <geometry>
        <cylinder length="0.067" radius="0.01"/>
      </geometry>
      <material name="left_sandia_hand_skin">
        <color rgba="0.835 0.655 0.345 1.0"/>
      </material>
    </visual>
    <!--   end visual shape approximation of f1 -->
    <!-- begin collision mesh of f1 ->
      <collision group="default">
        <origin xyz="0 0 0" rpy="0 0 0"/>
        <geometry>
          <mesh filename="package://sandia_hand_description/meshes/f1.stl"/>
        </geometry>
      </collision>
      <!-   end collision mesh of f1 -->
    <!-- begin visual mesh of f1 ->
      <visual>
        <origin xyz="0 0 0" rpy="0 0 0"/>
        <geometry>
          <mesh filename="package://sandia_hand_description/meshes/f1.stl"/>
        </geometry>
        <material name="${side}_sandia_hand_skin">
          <color rgba="0.835 0.655 0.345 1.0"/>
        </material>
      </visual>
      <!-   end visual mesh of f1 -->
  </link>
  <link name="left_f2_1_accel">
    <origin rpy="0 0 0" xyz="0 0 0"/>
    <inertial>
      <mass value="0.01"/>
      <origin xyz="0 0 0"/>
      <inertia ixx="0.000001" ixy="0" ixz="0" iyy="0.000001" iyz="0" izz="0.000001"/>
    </inertial>
  </link>
  <link name="left_f2_2">
    <origin rpy="0 0 0" xyz="0 0 0"/>
    <inertial>
      <mass value="0.033"/>
      <!-- F3 -->
      <origin xyz="0 0 0"/>
      <!-- solid cylinder -->
      <inertia ixx="0.0000013365" ixy="0" ixz="0" iyy="0.000009603" iyz="0" izz="0.000009603"/>
    </inertial>
    <!-- begin simple shape approximation of f2 -->
    <collision group="default">
      <origin rpy="0 1.57079632679 0" xyz="0.024 0 0"/>
      <geometry>
        <cylinder length="0.057" radius="0.009"/>
      </geometry>
    </collision>
    <collision group="other">
      <origin rpy="0 0 0" xyz="0.052 0 0"/>
      <geometry>
        <sphere radius="0.009"/>
      </geometry>
    </collision>
    <!--   end simple shape approximation of f2 -->
    <!-- begin visual shape approximation of f2 -->
    <visual>
      <origin rpy="0 1.57079632679 0" xyz="0.024 0 0"/>
      <geometry>
        <cylinder length="0.057" radius="0.009"/>
      </geometry>
      <material name="left_sandia_hand_skin_suntan">
        <color rgba="0.8 0.6 0.3 1.0"/>
      </material>
    </visual>
    <visual>
      <origin rpy="0 0 0" xyz="0.052 0 0"/>
      <geometry>
        <sphere radius="0.009"/>
      </geometry>
      <material name="left_sandia_hand_skin_suntan">
        <color rgba="0.8 0.6 0.3 1.0"/>
      </material>
    </visual>
    <!-- begin collision mesh of f2    ->
      <collision group="default">
        <origin xyz="0 0 0" rpy="0 0 0"/>
        <geometry>
          <mesh filename="package://sandia_hand_description/meshes/f2.stl"/>
        </geometry>
      </collision>
      <!-   end collision mesh of f2 -->
    <!-- begin visual mesh of f2    ->
      <visual>
        <origin xyz="0 0 0" rpy="0 0 0"/>
        <geometry>
          <mesh filename="package://sandia_hand_description/meshes/f2.stl"/>
        </geometry>
        <material name="${side}_sandia_hand_skin_suntan">
          <color rgba="0.8 0.6 0.3 1.0"/>
        </material>
      </visual>
      <!-   end visual mesh of f2 -->
  </link>
  <link name="left_f2_2_accel">
    <origin rpy="0 0 0" xyz="0 0 0"/>
    <inertial>
      <mass value="0.01"/>
      <origin xyz="0 0 0"/>
      <inertia ixx="0.000001" ixy="0" ixz="0" iyy="0.000001" iyz="0" izz="0.000001"/>
    </inertial>
  </link>
  <joint name="left_f2_base" type="fixed">
    <parent link="left_palm"/>
    <child link="left_f2_base"/>
    <origin rpy="0 0 -0.3" xyz="0.09 -0.06245 0"/>
  </joint>
  <joint name="left_f2_j0" type="revolute">
    <axis xyz="0 0 -1"/>
    <parent link="left_f2_base"/>
    <child link="left_f2_0"/>
    <limit effort="11" lower="-1.57079632679" upper="1.57079632679" velocity="100"/>
    <safety_controller k_position="1000.0" k_velocity="1000.0" soft_lower_limit="-11.57079" soft_upper_limit="11.57079"/>
    <dynamics damping="30"/>
    <origin rpy="0 0 0" xyz="0 0 0"/>
  </joint>
  <joint name="left_f2_j1" type="revolute">
    <axis xyz="0 0 1"/>
    <parent link="left_f2_0"/>
    <child link="left_f2_1"/>
    <limit effort="28" lower="-1.57079632679" upper="1.57079632679" velocity="100"/>
    <safety_controller k_position="1000.0" k_velocity="1000.0" soft_lower_limit="-11.57079" soft_upper_limit="11.57079"/>
    <dynamics damping="30"/>
    <origin rpy="1.57079632679 0 0" xyz="0.028 0 0"/>
  </joint>
  <joint name="left_f2_j2" type="revolute">
    <axis xyz="0 0 1"/>
    <parent link="left_f2_1"/>
    <child link="left_f2_2"/>
    <origin rpy="0 0 0" xyz="0.05 0 0"/>
    <safety_controller k_position="1000.0" k_velocity="1000.0" soft_lower_limit="-11.57079" soft_upper_limit="11.57079"/>
    <dynamics damping="30"/>
    <limit effort="28" lower="-1.57079632679" upper="1.57079632679" velocity="100"/>
  </joint>
  <joint name="left_f2_fixed_accel" type="fixed">
    <parent link="left_f2_base"/>
    <child link="left_f2_fixed_accel"/>
    <origin rpy="0 0 0" xyz="-0.05 0 0"/>
  </joint>
  <joint name="left_f2_1_accel" type="fixed">
    <parent link="left_f2_1"/>
    <child link="left_f2_1_accel"/>
    <origin rpy="-1.57079632679 0 0" xyz="0.03 0 0"/>
  </joint>
  <joint name="left_f2_2_accel" type="fixed">
    <parent link="left_f2_2"/>
    <child link="left_f2_2_accel"/>
    <origin rpy="-1.57079632679 0 0" xyz="0.04 0 0"/>
  </joint>
  <transmission name="left_f2_j0" type="pr2_mechanism_model/SimpleTransmission">
    <joint name="left_f2_j0"/>
    <actuator name="left_f2_j0_motor"/>
    <mechanicalReduction>1</mechanicalReduction>
  </transmission>
  <transmission name="left_f2_j1" type="pr2_mechanism_model/SimpleTransmission">
    <joint name="left_f2_j1"/>
    <actuator name="left_f2_j1_motor"/>
    <mechanicalReduction>1</mechanicalReduction>
  </transmission>
  <transmission name="left_f2_j2" type="pr2_mechanism_model/SimpleTransmission">
    <joint name="left_f2_j2"/>
    <actuator name="left_f2_j2_motor"/>
    <mechanicalReduction>1</mechanicalReduction>
  </transmission>
  <gazebo reference="left_f2_base">
    <mu1>0.9</mu1>
    <mu2>0.9</mu2>
    <kp>1000000000.0</kp>
    <kd>1.0</kd>
    <maxVel>0.1</maxVel>
    <minDepth>0.0</minDepth>
  </gazebo>
  <gazebo reference="left_f2_0">
    <mu1>0.9</mu1>
    <mu2>0.9</mu2>
    <kp>1000000000.0</kp>
    <kd>1.0</kd>
    <maxVel>0.1</maxVel>
    <minDepth>0.0</minDepth>
  </gazebo>
  <gazebo reference="left_f2_1">
    <mu1>0.9</mu1>
    <mu2>0.9</mu2>
    <kp>1000000000.0</kp>
    <kd>1.0</kd>
    <maxVel>1.0</maxVel>
    <minDepth>0.0</minDepth>
  </gazebo>
  <gazebo reference="left_f2_2">
    <mu1>0.9</mu1>
    <mu2>0.9</mu2>
    <kp>1000000000.0</kp>
    <kd>1.0</kd>
    <maxVel>1.0</maxVel>
    <minDepth>0.0</minDepth>
  </gazebo>
  <gazebo reference="left_f2_j0">
    <cfmDamping>1</cfmDamping>
  </gazebo>
  <gazebo reference="left_f2_j1">
    <cfmDamping>1</cfmDamping>
  </gazebo>
  <gazebo reference="left_f2_j2">
    <cfmDamping>1</cfmDamping>
  </gazebo>
  <link name="left_f3_base">
    <origin rpy="0 0 0" xyz="0 0 0"/>
    <inertial>
      <!-- total mass is 2.303 kg, palm is about 1.303 kg, distribute the rest into _base -->
      <mass value="0.250"/>
      <!-- (2.303 - 1.303) / 4 -->
      <origin xyz="0 0 0"/>
      <!-- model as sphere with radius of 1cm -->
      <inertia ixx="0.00001" ixy="0" ixz="0" iyy="0.00001" iyz="0" izz="0.00001"/>
    </inertial>
  </link>
  <link name="left_f3_fixed_accel">
    <origin rpy="0 0 0" xyz="0 0 0"/>
    <inertial>
      <mass value="0.01"/>
      <origin xyz="0 0 0"/>
      <inertia ixx="0.000001" ixy="0" ixz="0" iyy="0.000001" iyz="0" izz="0.000001"/>
    </inertial>
  </link>
  <link name="left_f3_0">
    <origin rpy="0 0 0" xyz="0 0 0"/>
    <inertial>
      <mass value="0.106"/>
      <!-- F1 -->
      <origin xyz="0 0 0"/>
      <!-- solid cylinder -->
      <inertia ixx="0.000011925" ixy="0" ixz="0" iyy="0.00011505" iyz="0" izz="0.00011505"/>
    </inertial>
    <!-- begin simple shape approximation of f0 -->
    <collision group="default">
      <origin rpy="0 0 0" xyz="0 0 0.003"/>
      <geometry>
        <cylinder length="0.023" radius="0.015"/>
      </geometry>
    </collision>
    <collision group="other">
      <origin rpy="1.57079632679 0 0" xyz="0.011 0 0.003"/>
      <geometry>
        <cylinder length="0.023" radius="0.01"/>
      </geometry>
    </collision>
    <!--   end simple shape approximation of f0 -->
    <!-- begin visual shape approximation of f0 -->
    <visual>
      <origin rpy="0 0 0" xyz="0 0 0.003"/>
      <geometry>
        <cylinder length="0.023" radius="0.015"/>
      </geometry>
      <material name="left_sandia_hand_skin_suntan">
        <color rgba="0.7 0.4 0.2 1.0"/>
      </material>
    </visual>
    <visual>
      <origin rpy="1.57079632679 0 0" xyz="0.011 0 0.003"/>
      <geometry>
        <cylinder length="0.023" radius="0.01"/>
      </geometry>
      <material name="left_sandia_hand_skin_suntan">
        <color rgba="0.7 0.4 0.2 1.0"/>
      </material>
    </visual>
    <!--   end visual shape approximation of f0 -->
    <!-- begin collision mesh of f0 ->
      <collision group="default">
        <origin xyz="0 0 0" rpy="0 0 0"/>
        <geometry>
          <mesh filename="package://sandia_hand_description/meshes/f0.stl"/>
        </geometry>
      </collision>
      <!-   end collision mesh of f0 -->
    <!-- begin visual mesh of f0 ->
      <visual>
        <origin xyz="0 0 0" rpy="0 0 0"/>
        <geometry>
          <mesh filename="package://sandia_hand_description/meshes/f0.stl"/>
        </geometry>
        <material name="${side}_sandia_hand_skin_suntan">
          <color rgba="0.7 0.4 0.2 1.0"/>
        </material>
      </visual>
      <!-   end visual mesh of f0 -->
  </link>
  <link name="left_f3_1">
    <origin rpy="0 0 0" xyz="0 0 0"/>
    <inertial>
      <mass value="0.033"/>
      <!-- F2 -->
      <origin xyz="0 0 0"/>
      <!-- solid cylinder -->
      <inertia ixx="0.00000165" ixy="0" ixz="0" iyy="0.00001316975" iyz="0" izz="0.00001316975"/>
    </inertial>
    <!-- begin simple shape approximation of f1 -->
    <collision group="default">
      <origin rpy="0 1.57079632679 0" xyz="0.024 0 0"/>
      <geometry>
        <cylinder length="0.067" radius="0.01"/>
      </geometry>
    </collision>
    <!--   end simple shape approximation of f1 -->
    <!-- begin visual shape approximation of f1 -->
    <visual>
      <origin rpy="0 1.57079632679 0" xyz="0.024 0 0"/>
      <geometry>
        <cylinder length="0.067" radius="0.01"/>
      </geometry>
      <material name="left_sandia_hand_skin">
        <color rgba="0.835 0.655 0.345 1.0"/>
      </material>
    </visual>
    <!--   end visual shape approximation of f1 -->
    <!-- begin collision mesh of f1 ->
      <collision group="default">
        <origin xyz="0 0 0" rpy="0 0 0"/>
        <geometry>
          <mesh filename="package://sandia_hand_description/meshes/f1.stl"/>
        </geometry>
      </collision>
      <!-   end collision mesh of f1 -->
    <!-- begin visual mesh of f1 ->
      <visual>
        <origin xyz="0 0 0" rpy="0 0 0"/>
        <geometry>
          <mesh filename="package://sandia_hand_description/meshes/f1.stl"/>
        </geometry>
        <material name="${side}_sandia_hand_skin">
          <color rgba="0.835 0.655 0.345 1.0"/>
        </material>
      </visual>
      <!-   end visual mesh of f1 -->
  </link>
  <link name="left_f3_1_accel">
    <origin rpy="0 0 0" xyz="0 0 0"/>
    <inertial>
      <mass value="0.01"/>
      <origin xyz="0 0 0"/>
      <inertia ixx="0.000001" ixy="0" ixz="0" iyy="0.000001" iyz="0" izz="0.000001"/>
    </inertial>
  </link>
  <link name="left_f3_2">
    <origin rpy="0 0 0" xyz="0 0 0"/>
    <inertial>
      <mass value="0.033"/>
      <!-- F3 -->
      <origin xyz="0 0 0"/>
      <!-- solid cylinder -->
      <inertia ixx="0.0000013365" ixy="0" ixz="0" iyy="0.000009603" iyz="0" izz="0.000009603"/>
    </inertial>
    <!-- begin simple shape approximation of f2 -->
    <collision group="default">
      <origin rpy="0 1.57079632679 0" xyz="0.024 0 0"/>
      <geometry>
        <cylinder length="0.057" radius="0.009"/>
      </geometry>
    </collision>
    <collision group="other">
      <origin rpy="0 0 0" xyz="0.052 0 0"/>
      <geometry>
        <sphere radius="0.009"/>
      </geometry>
    </collision>
    <!--   end simple shape approximation of f2 -->
    <!-- begin visual shape approximation of f2 -->
    <visual>
      <origin rpy="0 1.57079632679 0" xyz="0.024 0 0"/>
      <geometry>
        <cylinder length="0.057" radius="0.009"/>
      </geometry>
      <material name="left_sandia_hand_skin_suntan">
        <color rgba="0.8 0.6 0.3 1.0"/>
      </material>
    </visual>
    <visual>
      <origin rpy="0 0 0" xyz="0.052 0 0"/>
      <geometry>
        <sphere radius="0.009"/>
      </geometry>
      <material name="left_sandia_hand_skin_suntan">
        <color rgba="0.8 0.6 0.3 1.0"/>
      </material>
    </visual>
    <!-- begin collision mesh of f2    ->
      <collision group="default">
        <origin xyz="0 0 0" rpy="0 0 0"/>
        <geometry>
          <mesh filename="package://sandia_hand_description/meshes/f2.stl"/>
        </geometry>
      </collision>
      <!-   end collision mesh of f2 -->
    <!-- begin visual mesh of f2    ->
      <visual>
        <origin xyz="0 0 0" rpy="0 0 0"/>
        <geometry>
          <mesh filename="package://sandia_hand_description/meshes/f2.stl"/>
        </geometry>
        <material name="${side}_sandia_hand_skin_suntan">
          <color rgba="0.8 0.6 0.3 1.0"/>
        </material>
      </visual>
      <!-   end visual mesh of f2 -->
  </link>
  <link name="left_f3_2_accel">
    <origin rpy="0 0 0" xyz="0 0 0"/>
    <inertial>
      <mass value="0.01"/>
      <origin xyz="0 0 0"/>
      <inertia ixx="0.000001" ixy="0" ixz="0" iyy="0.000001" iyz="0" izz="0.000001"/>
    </inertial>
  </link>
  <joint name="left_f3_base" type="fixed">
    <parent link="left_palm"/>
    <child link="left_f3_base"/>
    <origin rpy="0 -1.57079632679 2.3562" xyz="0.03995 0.04383 0.014"/>
  </joint>
  <joint name="left_f3_j0" type="revolute">
    <axis xyz="0 0 -1"/>
    <parent link="left_f3_base"/>
    <child link="left_f3_0"/>
    <limit effort="11" lower="-1.57079632679" upper="1.57079632679" velocity="100"/>
    <safety_controller k_position="1000.0" k_velocity="1000.0" soft_lower_limit="-11.57079" soft_upper_limit="11.57079"/>
    <dynamics damping="30"/>
    <origin rpy="0 0 0" xyz="0 0 0"/>
  </joint>
  <joint name="left_f3_j1" type="revolute">
    <axis xyz="0 0 1"/>
    <parent link="left_f3_0"/>
    <child link="left_f3_1"/>
    <limit effort="28" lower="-1.57079632679" upper="1.57079632679" velocity="100"/>
    <safety_controller k_position="1000.0" k_velocity="1000.0" soft_lower_limit="-11.57079" soft_upper_limit="11.57079"/>
    <dynamics damping="30"/>
    <origin rpy="1.57079632679 0 0" xyz="0.028 0 0"/>
  </joint>
  <joint name="left_f3_j2" type="revolute">
    <axis xyz="0 0 1"/>
    <parent link="left_f3_1"/>
    <child link="left_f3_2"/>
    <origin rpy="0 0 0" xyz="0.05 0 0"/>
    <safety_controller k_position="1000.0" k_velocity="1000.0" soft_lower_limit="-11.57079" soft_upper_limit="11.57079"/>
    <dynamics damping="30"/>
    <limit effort="28" lower="-1.57079632679" upper="1.57079632679" velocity="100"/>
  </joint>
  <joint name="left_f3_fixed_accel" type="fixed">
    <parent link="left_f3_base"/>
    <child link="left_f3_fixed_accel"/>
    <origin rpy="0 0 0" xyz="-0.05 0 0"/>
  </joint>
  <joint name="left_f3_1_accel" type="fixed">
    <parent link="left_f3_1"/>
    <child link="left_f3_1_accel"/>
    <origin rpy="-1.57079632679 0 0" xyz="0.03 0 0"/>
  </joint>
  <joint name="left_f3_2_accel" type="fixed">
    <parent link="left_f3_2"/>
    <child link="left_f3_2_accel"/>
    <origin rpy="-1.57079632679 0 0" xyz="0.04 0 0"/>
  </joint>
  <transmission name="left_f3_j0" type="pr2_mechanism_model/SimpleTransmission">
    <joint name="left_f3_j0"/>
    <actuator name="left_f3_j0_motor"/>
    <mechanicalReduction>1</mechanicalReduction>
  </transmission>
  <transmission name="left_f3_j1" type="pr2_mechanism_model/SimpleTransmission">
    <joint name="left_f3_j1"/>
    <actuator name="left_f3_j1_motor"/>
    <mechanicalReduction>1</mechanicalReduction>
  </transmission>
  <transmission name="left_f3_j2" type="pr2_mechanism_model/SimpleTransmission">
    <joint name="left_f3_j2"/>
    <actuator name="left_f3_j2_motor"/>
    <mechanicalReduction>1</mechanicalReduction>
  </transmission>
  <gazebo reference="left_f3_base">
    <mu1>0.9</mu1>
    <mu2>0.9</mu2>
    <kp>1000000000.0</kp>
    <kd>1.0</kd>
    <maxVel>0.1</maxVel>
    <minDepth>0.0</minDepth>
  </gazebo>
  <gazebo reference="left_f3_0">
    <mu1>0.9</mu1>
    <mu2>0.9</mu2>
    <kp>1000000000.0</kp>
    <kd>1.0</kd>
    <maxVel>0.1</maxVel>
    <minDepth>0.0</minDepth>
  </gazebo>
  <gazebo reference="left_f3_1">
    <mu1>0.9</mu1>
    <mu2>0.9</mu2>
    <kp>1000000000.0</kp>
    <kd>1.0</kd>
    <maxVel>1.0</maxVel>
    <minDepth>0.0</minDepth>
  </gazebo>
  <gazebo reference="left_f3_2">
    <mu1>0.9</mu1>
    <mu2>0.9</mu2>
    <kp>1000000000.0</kp>
    <kd>1.0</kd>
    <maxVel>1.0</maxVel>
    <minDepth>0.0</minDepth>
  </gazebo>
  <gazebo reference="left_f3_j0">
    <cfmDamping>1</cfmDamping>
  </gazebo>
  <gazebo reference="left_f3_j1">
    <cfmDamping>1</cfmDamping>
  </gazebo>
  <gazebo reference="left_f3_j2">
    <cfmDamping>1</cfmDamping>
  </gazebo>
  <gazebo reference="left_palm">
    <mu1>0.9</mu1>
    <mu2>0.9</mu2>
  </gazebo>
</robot>
